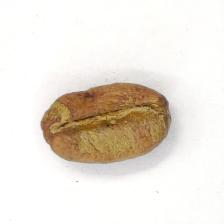NG: (45, 84, 166, 161)
